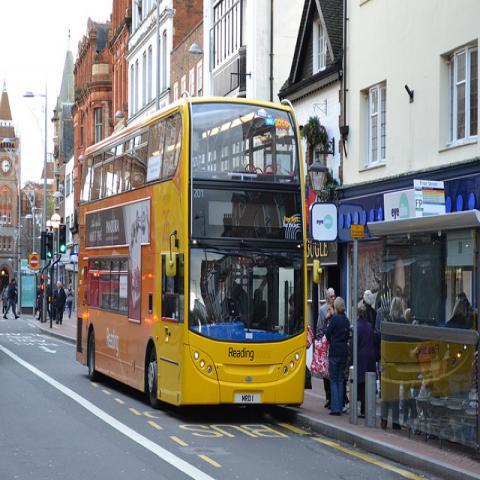bus: (74, 97, 307, 409)
